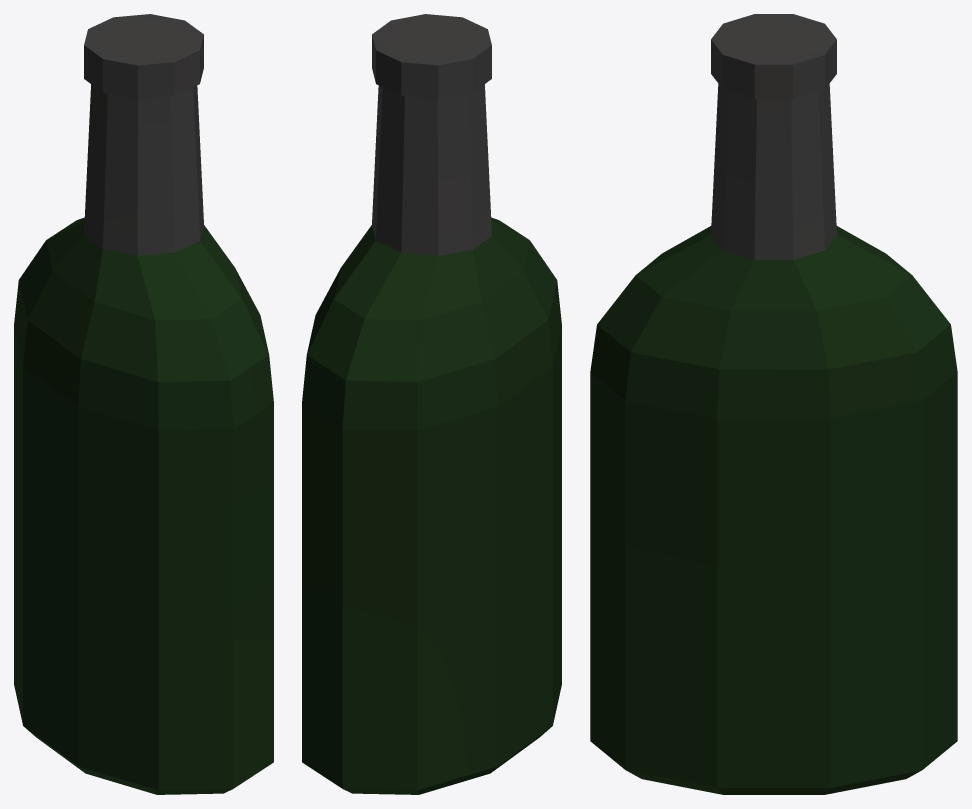
The model's file is bottle_3.fbx.
3 views of the same model, side by side, from view 1: azimuth 30°, elevation 25°; view 2: azimuth 150°, elevation 25°; view 3: azimuth 270°, elevation 25° (orthographic). The views are drawn at different scales.
Visible parts, largest first — view 1: bottle_3; view 2: bottle_3; view 3: bottle_3.
Boxes of the visible parts, left/top/right/bottom form: bottle_3: left=14, top=14, right=273, bottom=794; bottle_3: left=302, top=14, right=561, bottom=794; bottle_3: left=590, top=14, right=957, bottom=794.
Size of the model in its own units: 0.0678 by 0.2417 by 0.1127.
